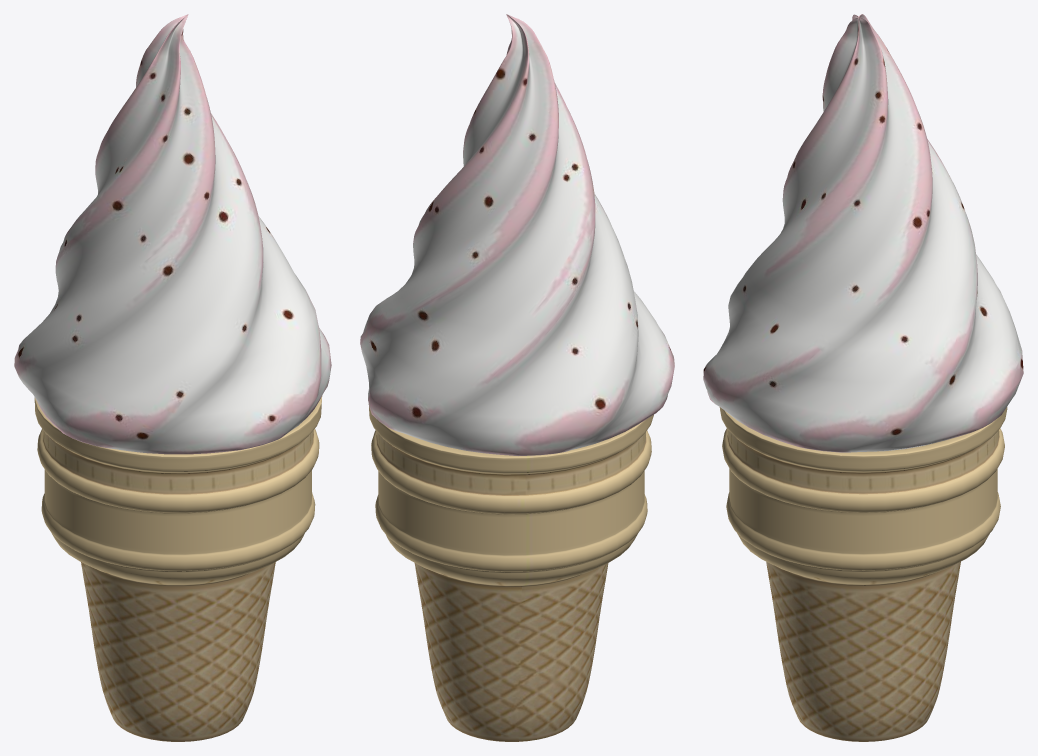
The model's file is icecream.glb.
3 renders of one model, left to right at view 1: azimuth 30°, elevation 25°; view 2: azimuth 150°, elevation 25°; view 3: azimuth 270°, elevation 25°, orthographic.
Visible parts, largest first — view 1: icecream_body; view 2: icecream_body; view 3: icecream_body.
Boxes of the visible parts, left/top/right/bottom form: icecream_body: left=14, top=14, right=331, bottom=741; icecream_body: left=360, top=14, right=674, bottom=741; icecream_body: left=703, top=14, right=1023, bottom=741.
Size of the model in its own units: 0.1095 by 0.27 by 0.1117.
1 material, 1 textured.
